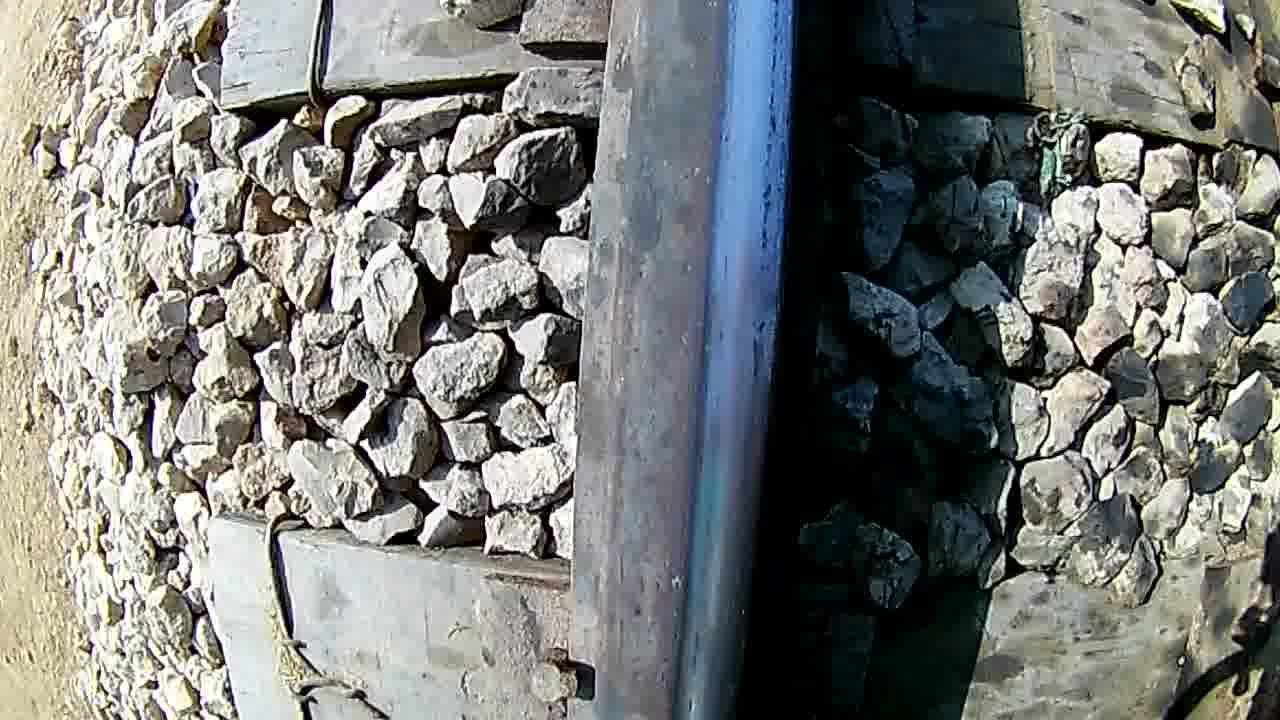crack: (609, 1, 797, 720)
